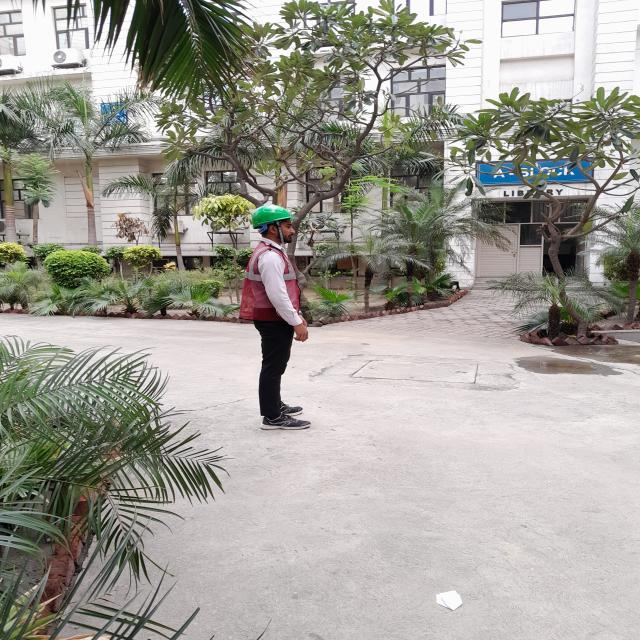safe: (241, 204, 308, 429)
